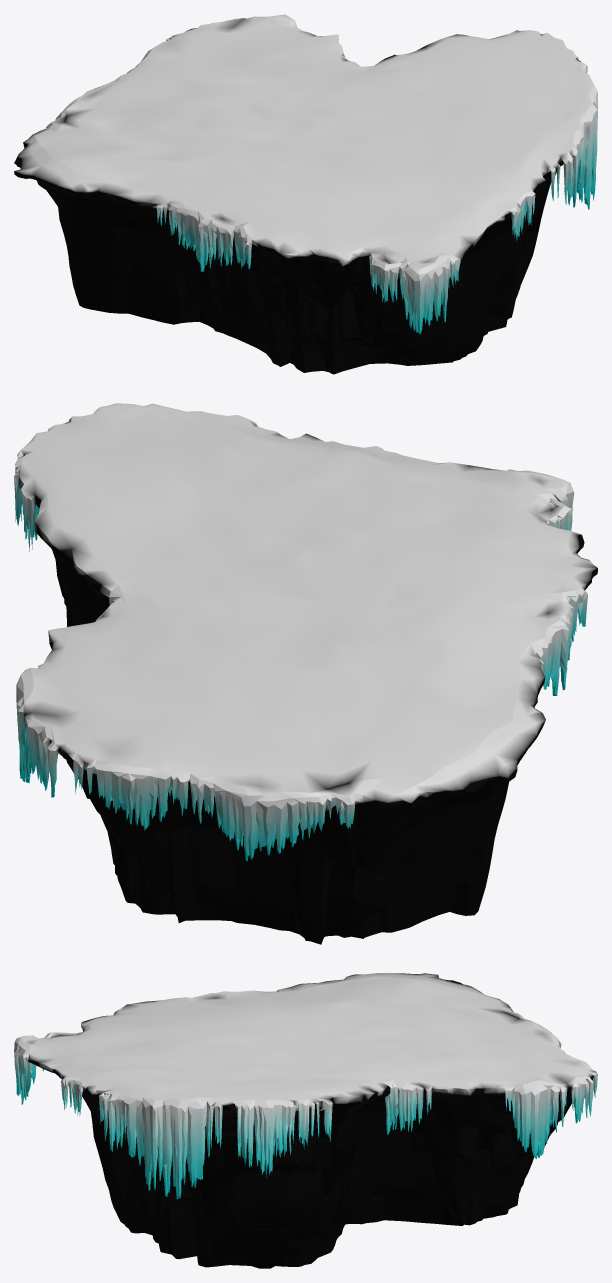
Rendered from CliffIce_5_Warp.fbx.
3 renders of one model, top to bottom at view 1: azimuth 30°, elevation 25°; view 2: azimuth 150°, elevation 25°; view 3: azimuth 270°, elevation 25°, orthographic. The views are drawn at different scales.
Visible parts, largest first — view 1: CliffIce_5_Warp_LOD0; view 2: CliffIce_5_Warp_LOD0; view 3: CliffIce_5_Warp_LOD0.
Part boxes in pixels (bbox=[...]): CliffIce_5_Warp_LOD0: bbox=[14, 14, 597, 374]; CliffIce_5_Warp_LOD0: bbox=[14, 403, 597, 944]; CliffIce_5_Warp_LOD0: bbox=[14, 973, 597, 1268].
Size of what is drawn, in the model's own units: 1973 by 900 by 2329.
